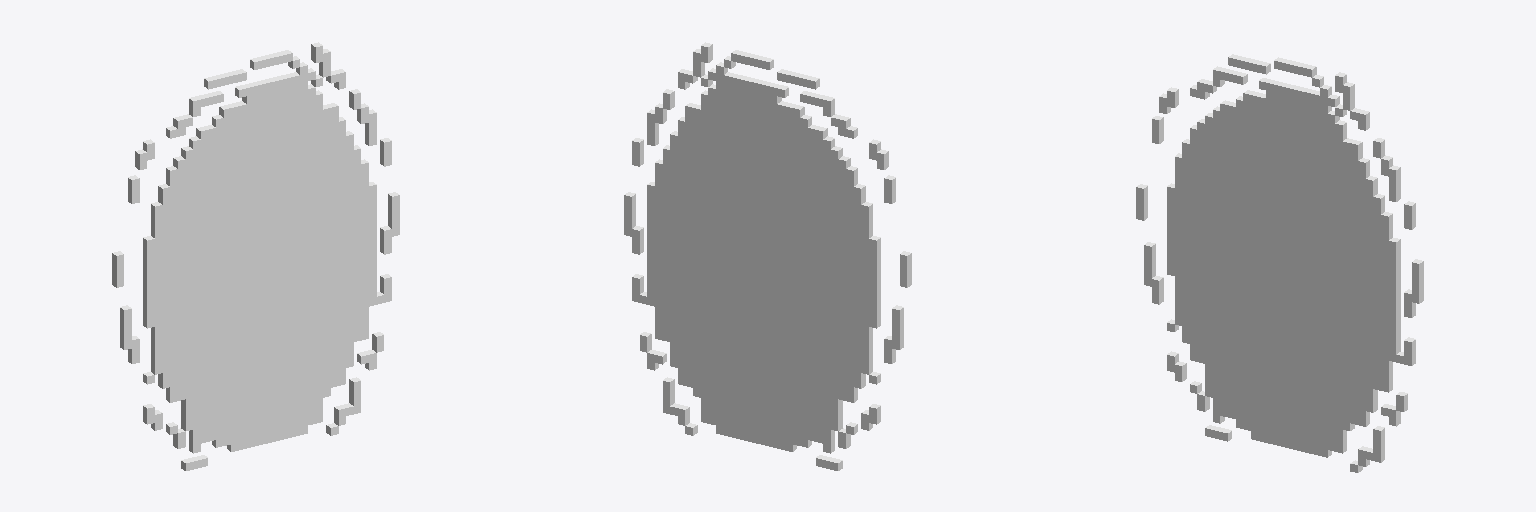
Rendered from warp.vox.obj.
The picture shows the model from 3 angles: view 1: azimuth 30°, elevation 25°; view 2: azimuth 150°, elevation 25°; view 3: azimuth 330°, elevation 25°; orthographic projection.
Parts seen in each view (by area): view 1: object 1; view 2: object 1; view 3: object 1.
Part boxes in pixels (left/top/right/bottom): object 1: left=112, top=42, right=399, bottom=470; object 1: left=624, top=42, right=911, bottom=470; object 1: left=1136, top=54, right=1423, bottom=472.
Size of the model in its own units: 3.7 by 4.9 by 0.1.